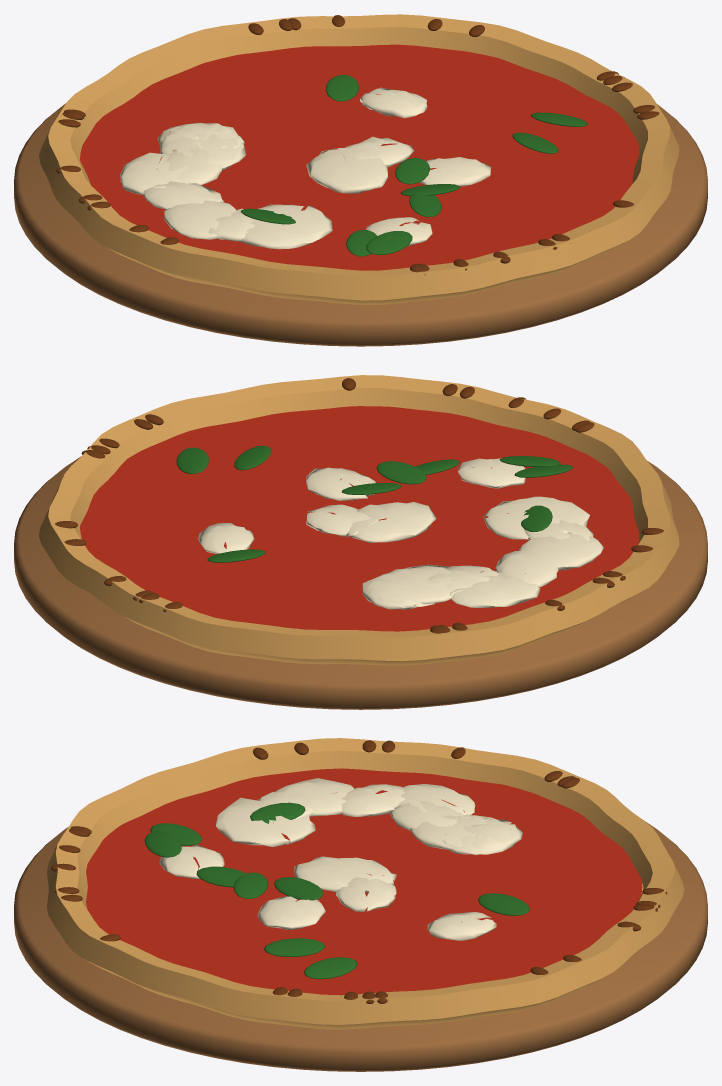
Rendered from pizza_margherita.glb.
3 views of the same model, one above another, from view 1: azimuth 30°, elevation 25°; view 2: azimuth 150°, elevation 25°; view 3: azimuth 270°, elevation 25° (orthographic).
Visible parts, largest first — view 1: pizza_margherita; view 2: pizza_margherita; view 3: pizza_margherita.
Boxes of the visible parts, x1,y1,x2,y2 form: pizza_margherita: [14, 14, 707, 346]; pizza_margherita: [14, 375, 707, 709]; pizza_margherita: [14, 738, 707, 1071].
Bounding box in the file's own units: 0.38 × 0.0355 × 0.38.
